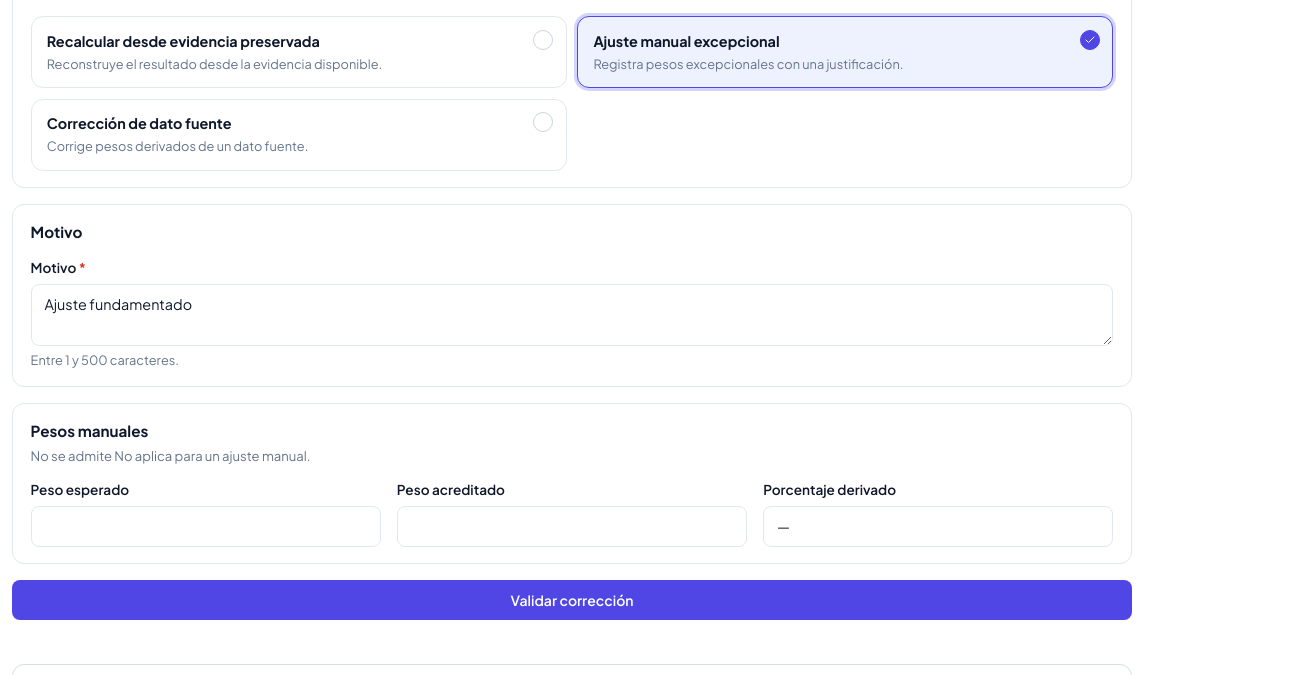
Scenario: MonthlyPerformanceCorrectionsPage › rejects invalid manual bounds and permits valid manual dry validation
Earlier steps of the test are not shown.
(page scrolled)
Type "0" into the field labelled "Peso esperado" at (206, 527), box [31,506,381,547]
Type "-1" into the field labelled "Peso acreditado" at (572, 527), box [397,506,747,547]
Click the button "Validar corrección" at (572, 600), box [12,580,1132,620]
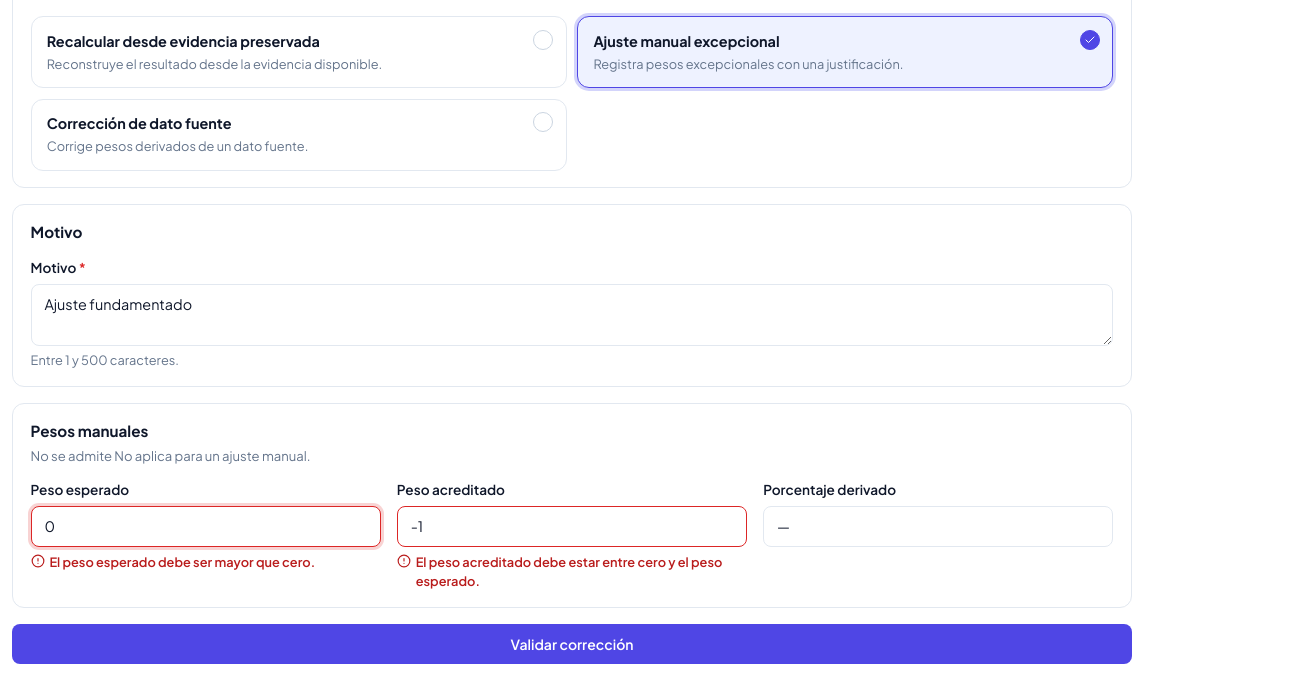
Expected: the text "El peso esperado debe ser mayor que cero." is shown, [31,554,315,570]
Expected: the text "El peso acreditado debe estar entre cero y el peso esperado." is shown, [397,553,747,591]
Replace the text in the field labelled "Peso esperado" with "10" at (206, 527), box [31,506,381,547]
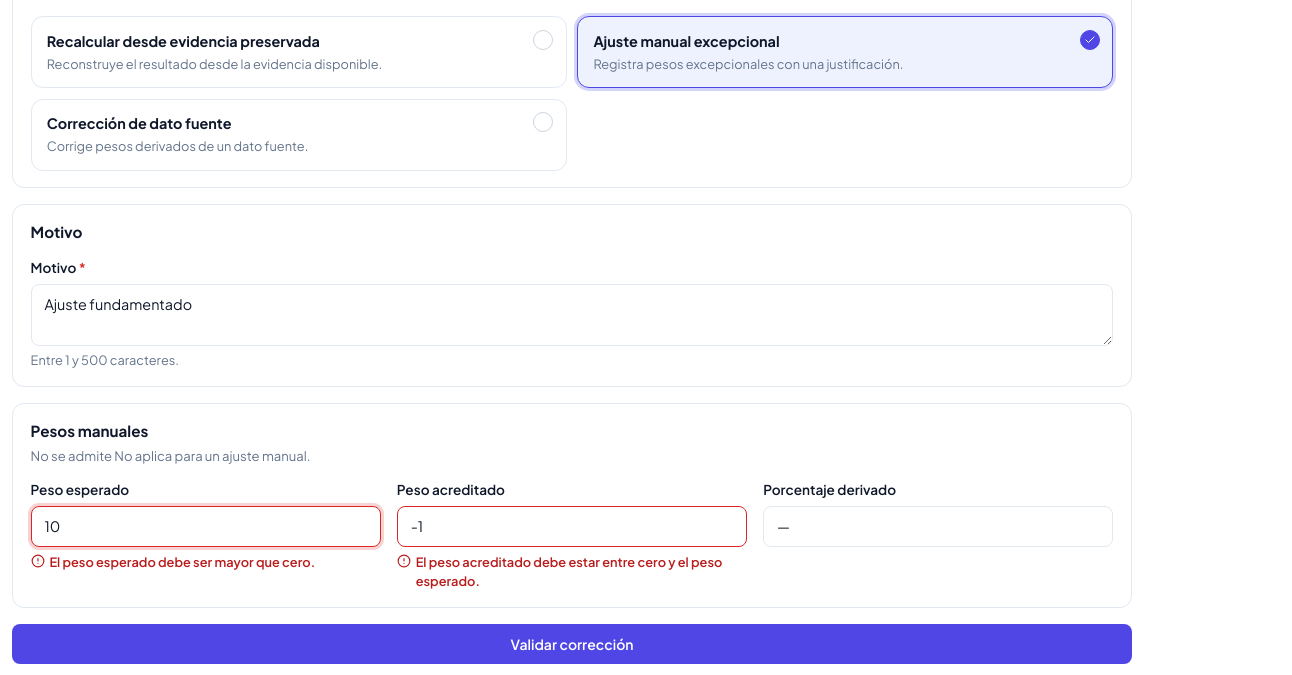
Replace the text in the field labelled "Peso acreditado" with "11" at (572, 527), box [397,506,747,547]
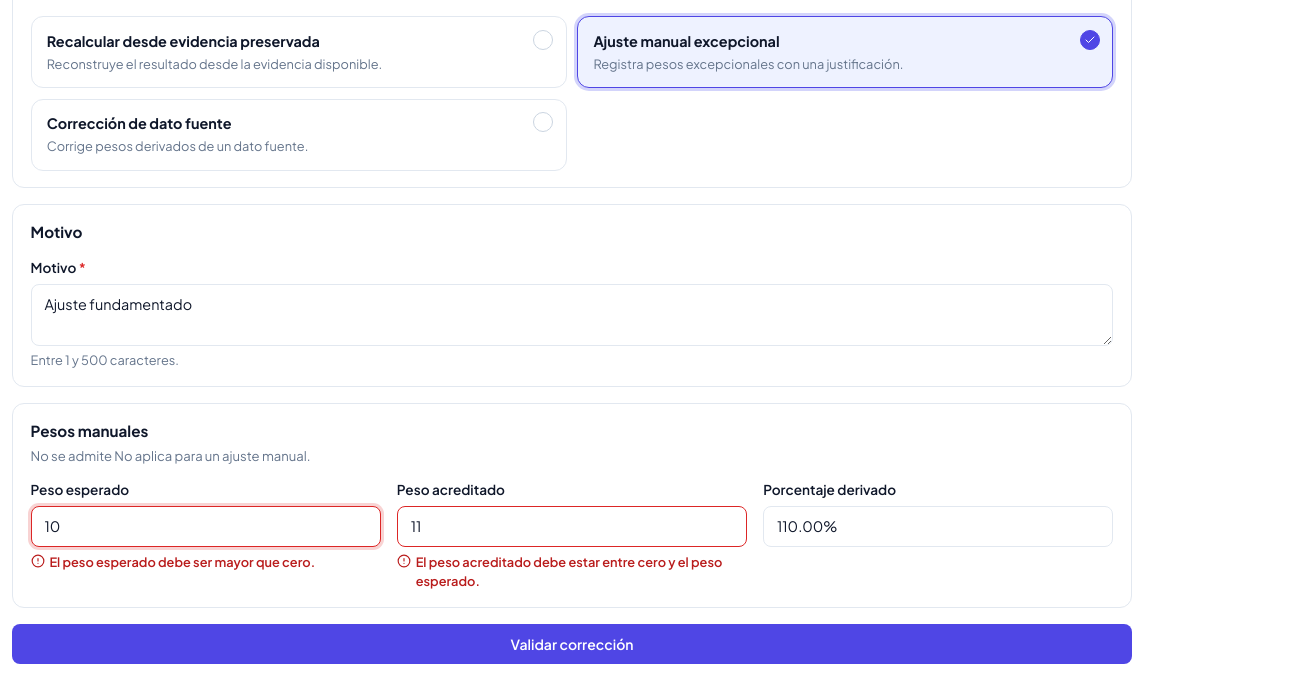
Click the button "Validar corrección" at (572, 644), box [12,624,1132,664]
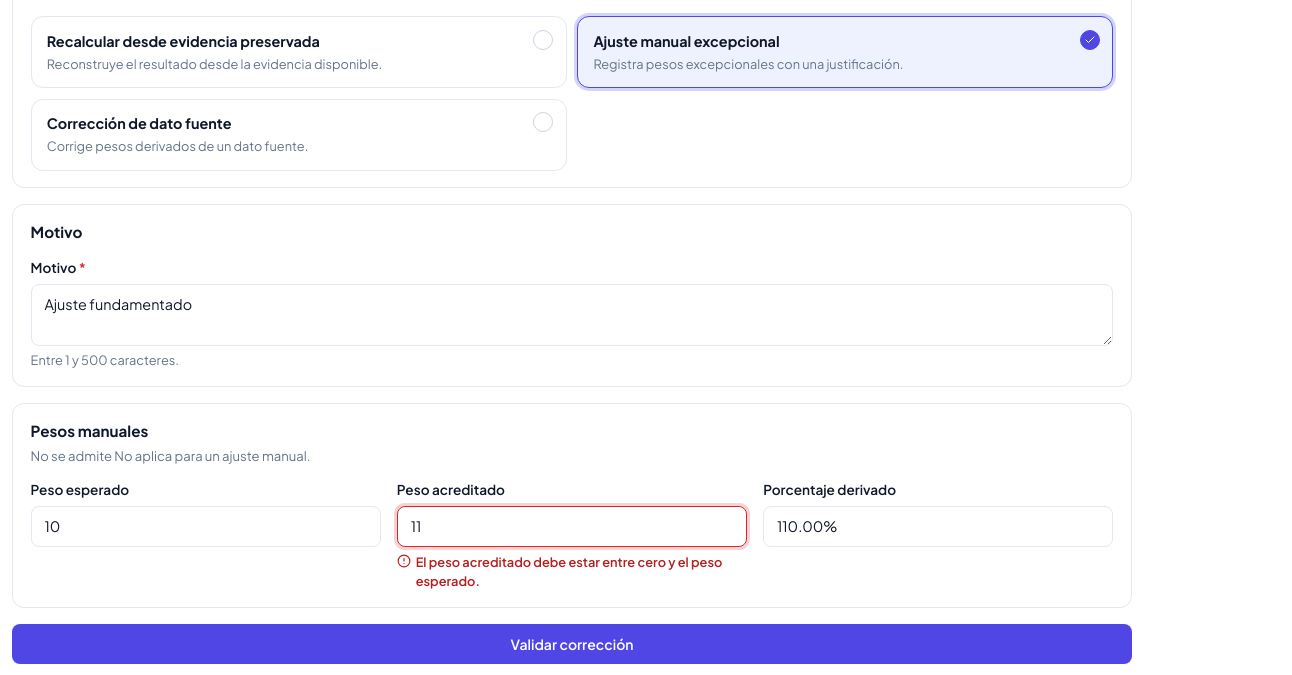
Expected: the text "El peso acreditado debe estar entre cero y el peso esperado." is shown, [397,553,747,591]
Replace the text in the field labelled "Peso acreditado" with "7.5" at (572, 527), box [397,506,747,547]
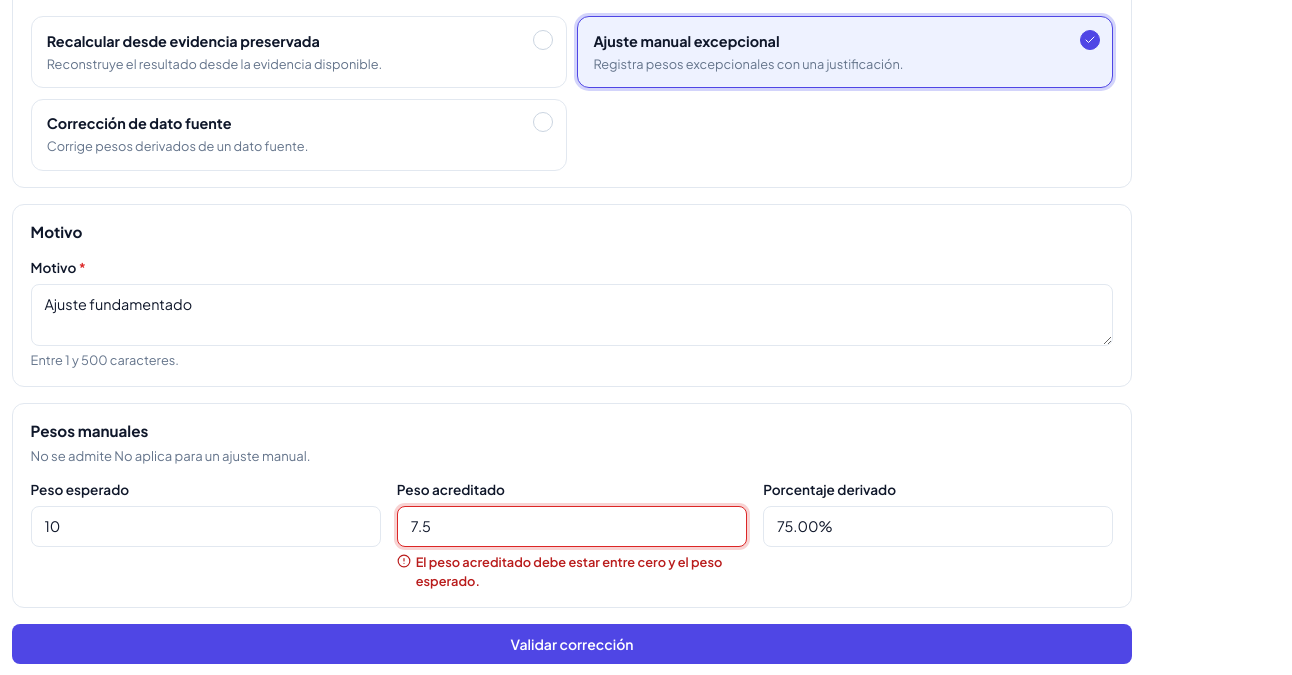
Click the button "Validar corrección" at (572, 644), box [12,624,1132,664]
(page scrolled)
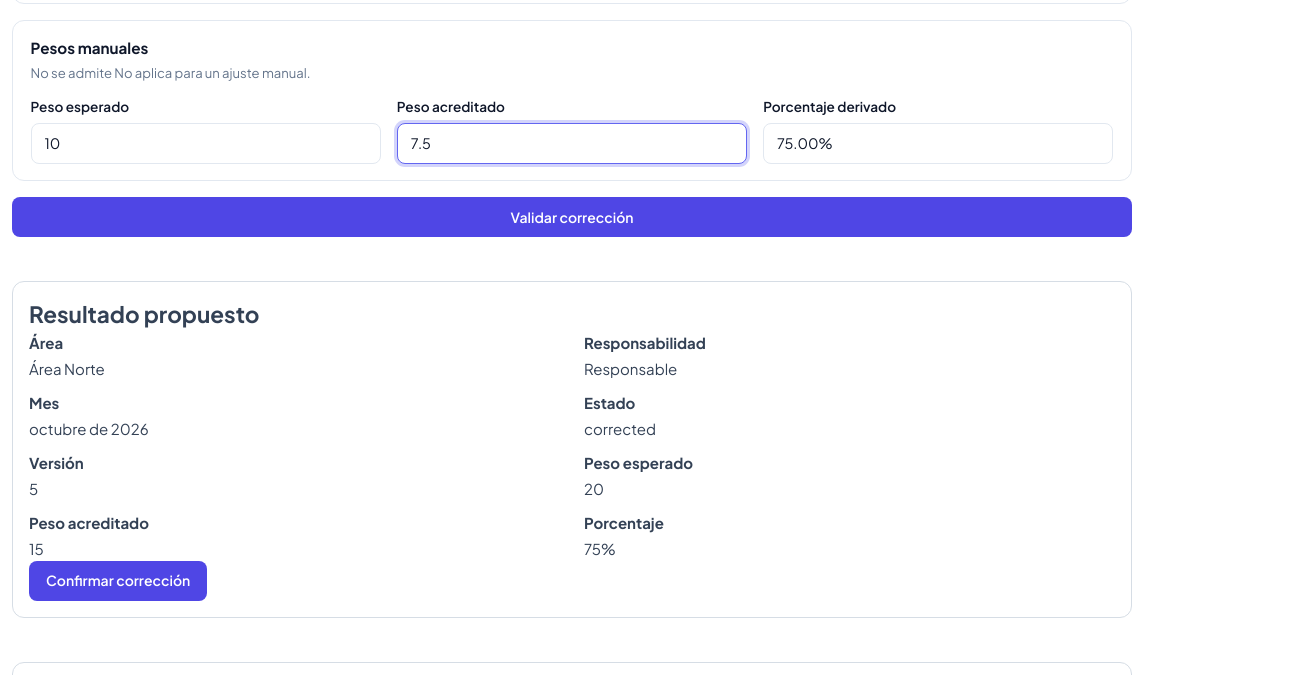
Expected: the heading "Resultado propuesto" is shown, [29,300,260,328]
